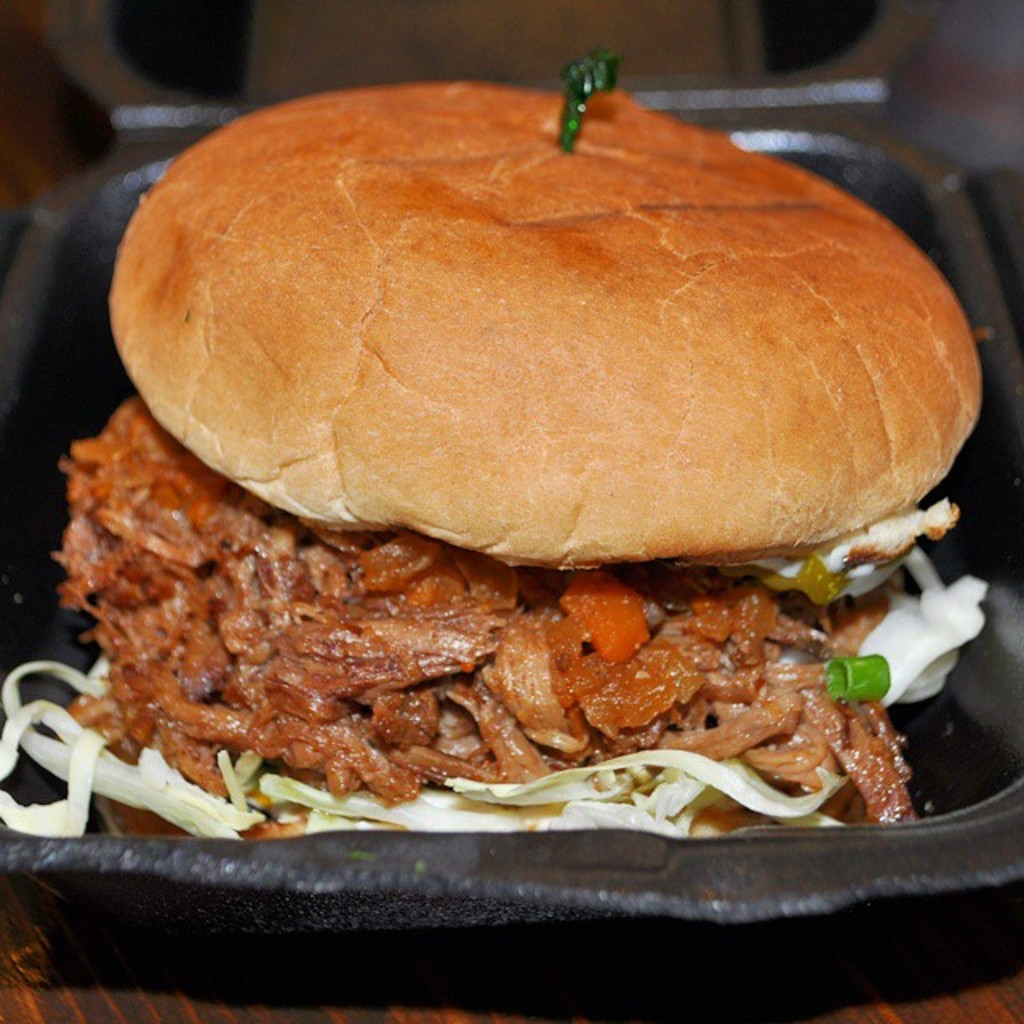Hamburger: (0, 52, 993, 830)
